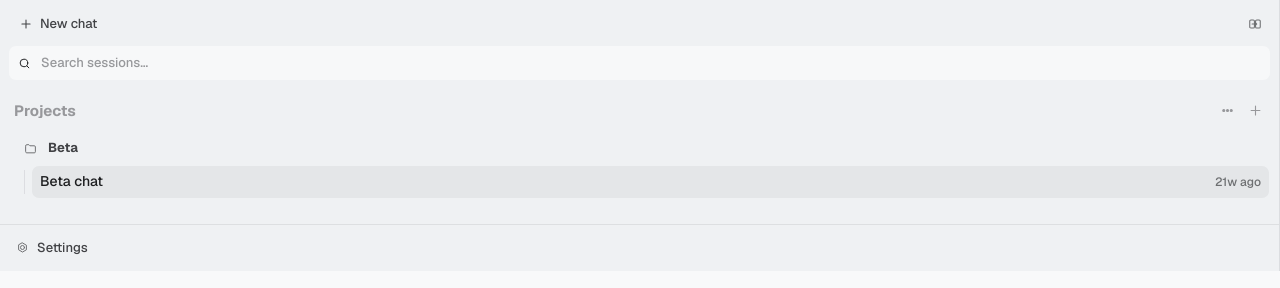
Test: desktop Sidebar workspace grouping › keeps sidebar sorting submenus closed until a sorting row is chosen
Click the button named "Sidebar options" at (1228, 110), box left=1216, top=99, right=1239, bottom=122
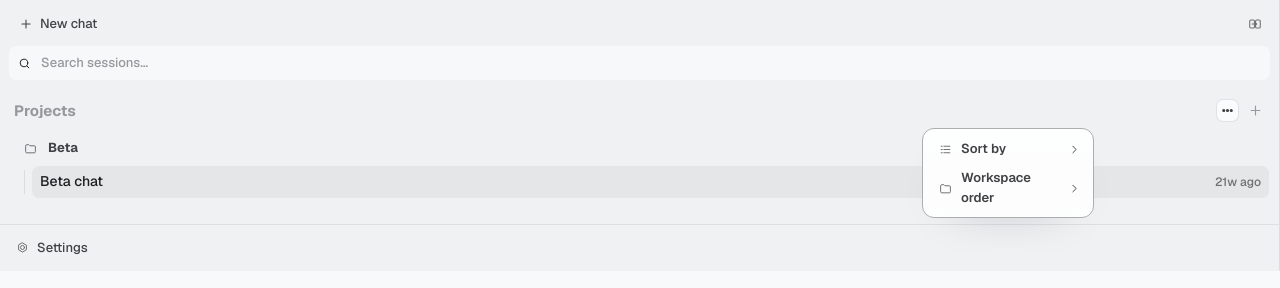
Result: the button "Sort by" is shown at left=928, top=134, right=1088, bottom=164
Result: the button "Workspace order" is shown at left=928, top=164, right=1088, bottom=212
